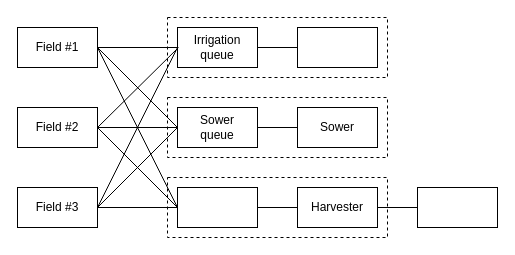
Some shapes in this 515 by 255 pixel diagram are drawn without their labels. Each missing label, with the centre of its shape:
"Harvester queue" belongs at [217,207].
"Irrigator" belongs at [337,47].
"Market" belongs at [457,207].
